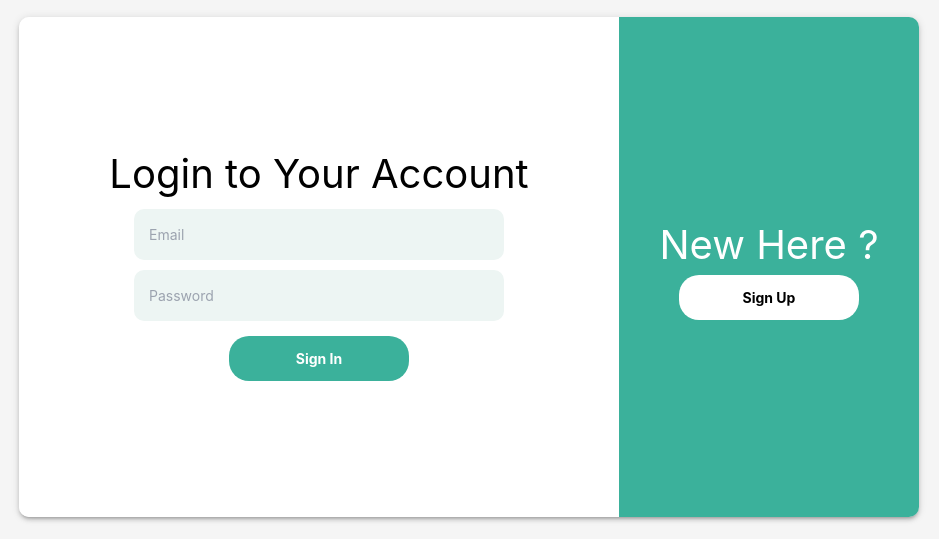
Handling error for login submission in the event of invalid credentials being provided
Type "user@example.com" into the field with placeholder "Email".
click(319, 234); type("user@example.com")  # box [134,208,504,260]
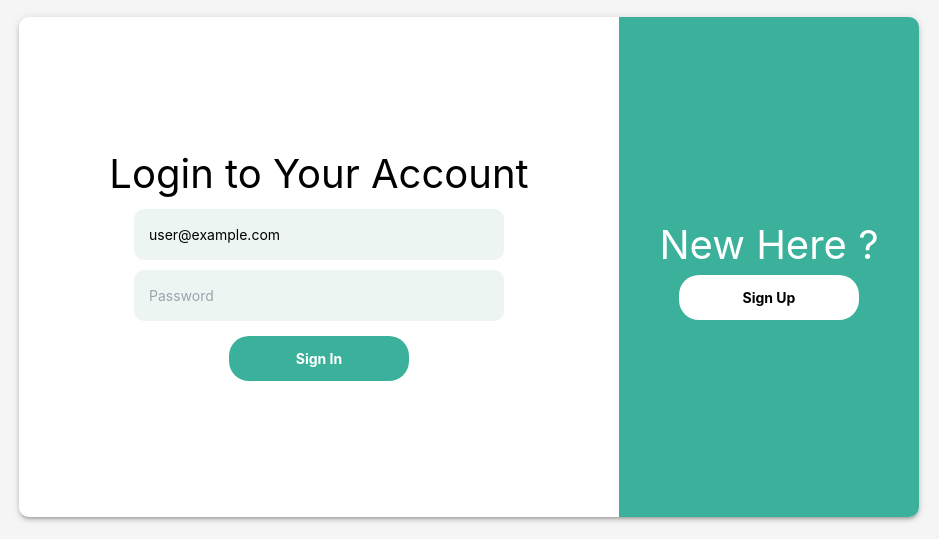
Type "wrongPassword" into the password field with placeholder "Password".
click(319, 295); type("wrongPassword")  # box [134,270,504,320]
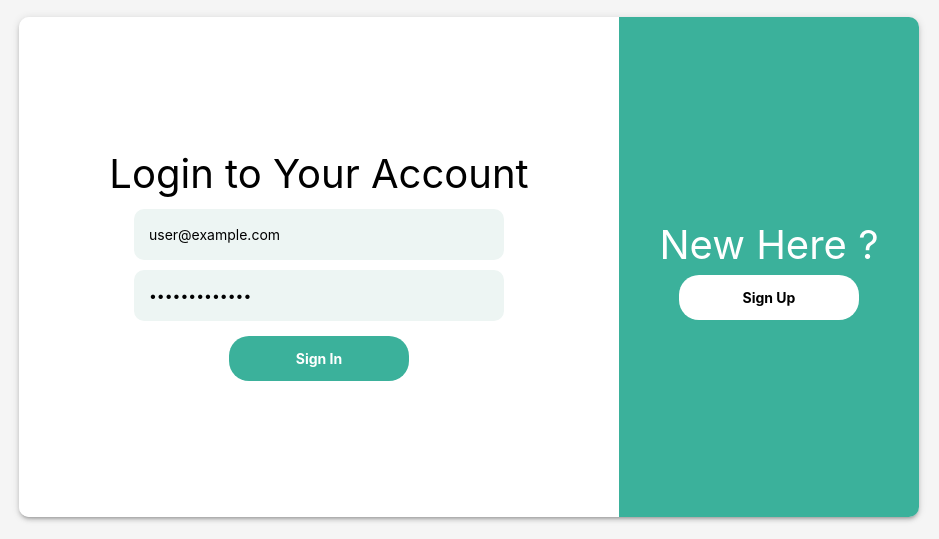
Click the button "Sign In".
click(319, 358)  # box [229,336,409,380]
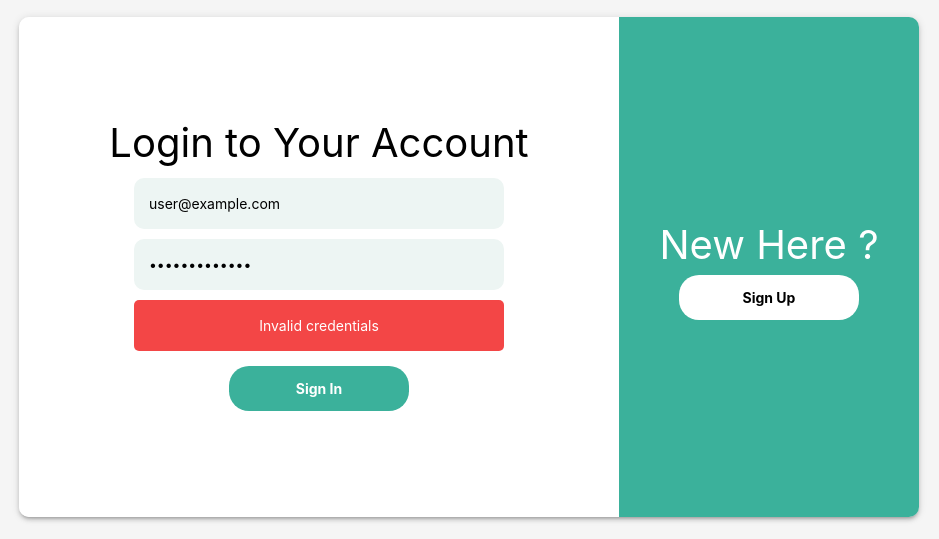
Expected: the text "Invalid credentials" is shown, [134,300,504,351]
